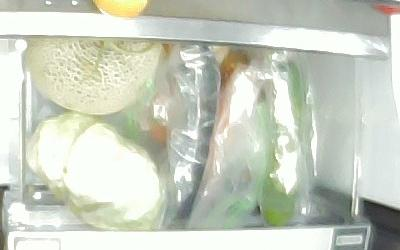cabbage: (25, 112, 166, 230)
eggplant_vinyl: (169, 43, 216, 215)
melon: (27, 38, 162, 115)
zucchini_vinyl: (259, 48, 302, 226)
